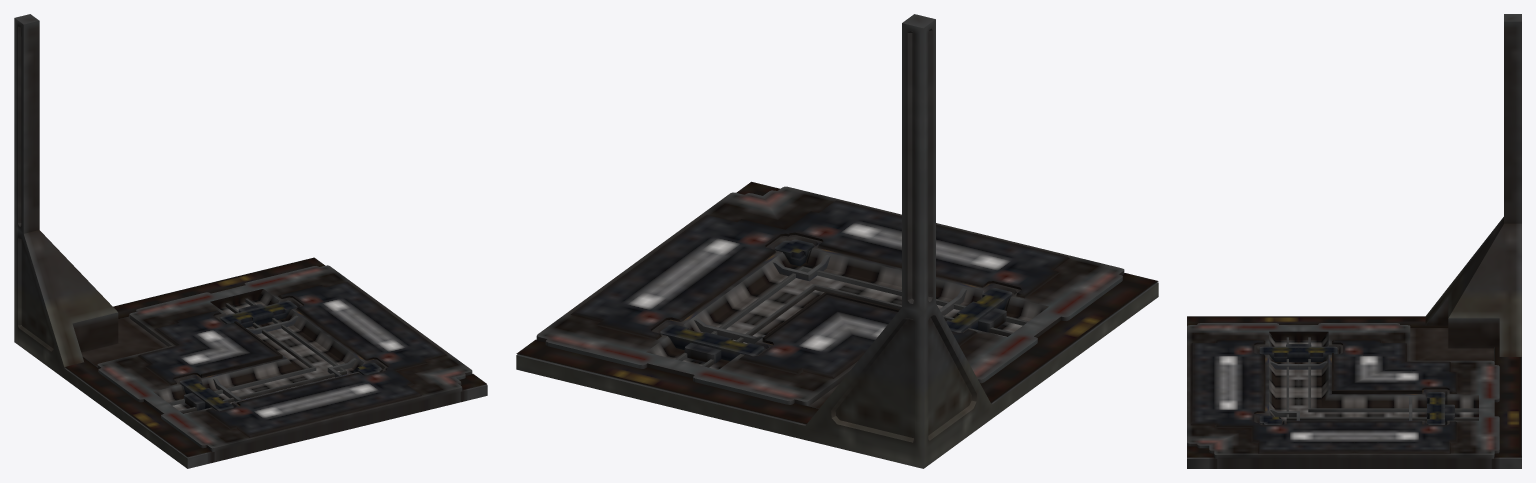
The model's file is Wall-Floor_06_Corner_out_1.FBX.
3 renders of one model, left to right at view 1: azimuth 30°, elevation 25°; view 2: azimuth 150°, elevation 25°; view 3: azimuth 270°, elevation 25°, orthographic. The views are drawn at different scales.
Visible parts, largest first — view 1: Wall-Floor_06; view 2: Wall-Floor_06; view 3: Wall-Floor_06.
Boxes of the visible parts, x1,y1,x2,y2 form: Wall-Floor_06: (14,14,487,468); Wall-Floor_06: (516,14,1158,468); Wall-Floor_06: (1187,14,1521,468).
Bounding box in the file's own units: 300 × 310 × 300.
